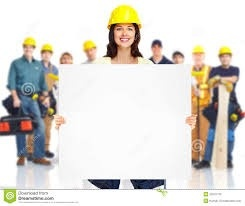helmet: (105, 1, 144, 30), (79, 37, 100, 53), (216, 45, 235, 59), (190, 43, 208, 56), (20, 35, 37, 46), (39, 43, 54, 54)
person with partial safety: (12, 32, 45, 164), (210, 44, 242, 170), (190, 45, 219, 153)
person without safety: (148, 37, 172, 63), (168, 50, 186, 62), (60, 49, 74, 64)
